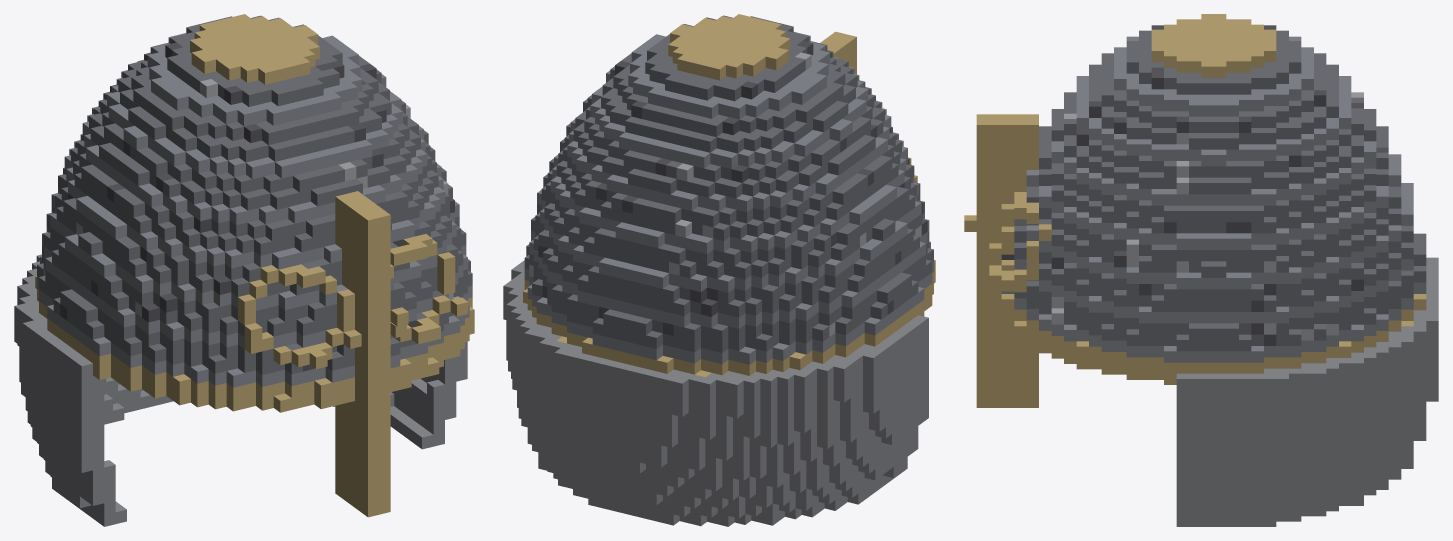
Rendered from scale_rare_helmet.glb.
3 renders of one model, left to right at view 1: azimuth 30°, elevation 25°; view 2: azimuth 150°, elevation 25°; view 3: azimuth 270°, elevation 25°, orthographic. The views are drawn at different scales.
Parts seen in each view (by area): view 1: scale_rare_helmet; view 2: scale_rare_helmet; view 3: scale_rare_helmet.
Part boxes in pixels (x1,y1,x2,y2): scale_rare_helmet: [14, 14, 474, 526]; scale_rare_helmet: [503, 14, 935, 526]; scale_rare_helmet: [964, 14, 1438, 526].
Bounding box in the file's own units: 0.408 × 0.432 × 0.456.
